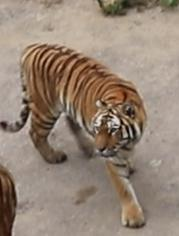tiger: (1, 43, 146, 225)
